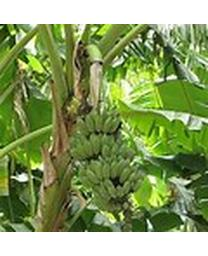banana: (70, 106, 145, 215)
